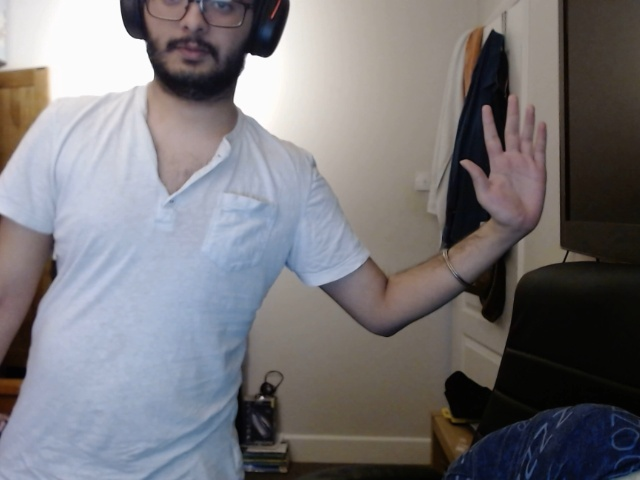Hello: (453, 90, 571, 250)
